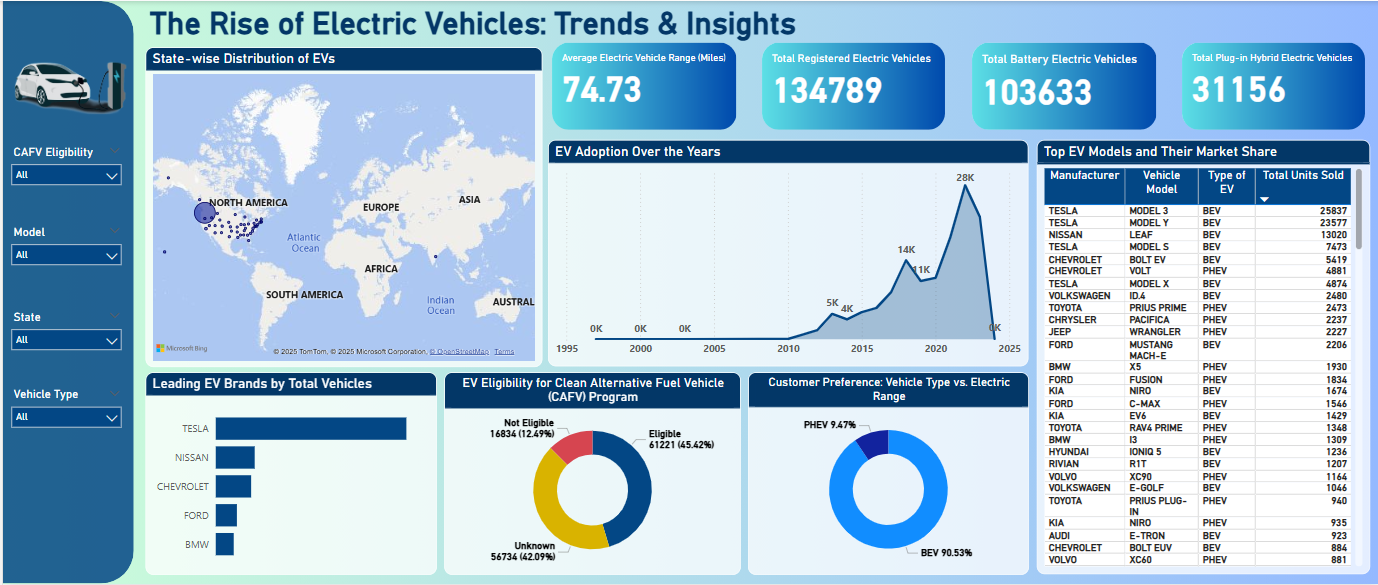

What the dashboard file says about the page in this screenshot:
{"tool":"powerbi","page":{"name":"Dashboard","canvas":[1700,720],"ordinal":0},"visuals":[{"type":"shape","box":[0,0,161.7,720],"z":0},{"type":"slicer","fields":{"Values":["Electric_Vehicle_Population_Data.EV_Type_Short"]},"box":[0.1,473.3,156.7,75],"z":1000},{"type":"slicer","fields":{"Values":["Electric_Vehicle_Population_Data.CAFV Eligibility"]},"box":[0.1,173.3,156.7,75],"z":2000},{"type":"slicer","fields":{"Values":["Electric_Vehicle_Population_Data.State"]},"box":[0.1,376.7,156.7,75],"z":3000},{"type":"slicer","fields":{"Values":["Electric_Vehicle_Population_Data.Model"]},"box":[0.1,271.7,156.7,81.7],"z":4000},{"type":"cardVisual","fields":{"Data":["Avg(Electric_Vehicle_Population_Data.Electric Range)"]},"box":[673.3,46.7,238.3,118.3],"z":5000},{"type":"cardVisual","fields":{"Data":["Count(Electric_Vehicle_Population_Data.DOL Vehicle ID)"]},"box":[933.3,46.7,236.7,118.3],"z":6000},{"type":"cardVisual","fields":{"Data":["Electric_Vehicle_Population_Data.BEV_Count"]},"box":[1191.7,46.7,238.3,118.3],"z":7000},{"type":"cardVisual","fields":{"Data":["Electric_Vehicle_Population_Data.PHEV_Count"]},"box":[1451.7,46.7,236.7,118.3],"z":8000},{"type":"areaChart","title":"EV Adoption Over the Years","fields":{"Category":["Electric_Vehicle_Population_Data.Model Year"],"Y":["CountNonNull(Electric_Vehicle_Population_Data.DOL Vehicle ID)"]},"box":[673.3,171.7,593.3,280],"z":9000},{"type":"map","title":"State-wise Distribution of EVs","fields":{"Category":["Electric_Vehicle_Population_Data.State"],"Size":["Count(Electric_Vehicle_Population_Data.DOL Vehicle ID)"]},"box":[176.7,56.7,490,395],"z":10000},{"type":"clusteredBarChart","title":"Leading EV Brands by Total Vehicles","fields":{"Y":["Sum(Electric_Vehicle_Population_Data.DOL Vehicle ID)"],"Category":["Electric_Vehicle_Population_Data.Make"]},"box":[176.7,458.3,360,250],"z":11000},{"type":"donutChart","title":"EV Eligibility for Clean Alternative Fuel Vehicle (CAFV) Program","fields":{"Category":["Electric_Vehicle_Population_Data.CAFV Eligibility"],"Y":["Count(Electric_Vehicle_Population_Data.DOL Vehicle ID)"]},"box":[545,458.3,366.7,250],"z":12000},{"type":"tableEx","title":"Top EV Models and Their Market Share","fields":{"Values":["Electric_Vehicle_Population_Data.Make","Electric_Vehicle_Population_Data.Model","Electric_Vehicle_Population_Data.EV_Type_Short","Count(Electric_Vehicle_Population_Data.DOL Vehicle ID)"]},"box":[1276.7,171.7,411.7,536.7],"z":13000},{"type":"image","box":[8.3,28.3,153.3,156.7],"z":14000},{"type":"textbox","box":[176.7,0,1190,58.3],"z":15000},{"type":"donutChart","title":"Customer Preference: Vehicle Type vs. Electric Range","fields":{"Category":["Electric_Vehicle_Population_Data.EV_Type_Short"],"Y":["Sum(Electric_Vehicle_Population_Data.Electric Range)"]},"box":[920,458.2,347.3,250],"z":16000}]}

Visuals, with their boxes in screenshot pixels (x1, y1, x2, y2), scaled from the page's 1700x720 canvas onto the 1378x585 screenshot:
shape: [left=0, top=0, right=131, bottom=584]
slicer - Electric_Vehicle_Population_Data.EV_Type_Short: [left=0, top=385, right=127, bottom=445]
slicer - Electric_Vehicle_Population_Data.CAFV Eligibility: [left=0, top=141, right=127, bottom=202]
slicer - Electric_Vehicle_Population_Data.State: [left=0, top=306, right=127, bottom=367]
slicer - Electric_Vehicle_Population_Data.Model: [left=0, top=221, right=127, bottom=287]
cardVisual - Avg(Electric_Vehicle_Population_Data.Electric Range): [left=546, top=38, right=739, bottom=134]
cardVisual - Count(Electric_Vehicle_Population_Data.DOL Vehicle ID): [left=757, top=38, right=948, bottom=134]
cardVisual - Electric_Vehicle_Population_Data.BEV_Count: [left=966, top=38, right=1159, bottom=134]
cardVisual - Electric_Vehicle_Population_Data.PHEV_Count: [left=1177, top=38, right=1369, bottom=134]
"EV Adoption Over the Years" areaChart: [left=546, top=140, right=1027, bottom=367]
"State-wise Distribution of EVs" map: [left=143, top=46, right=540, bottom=367]
"Leading EV Brands by Total Vehicles" clusteredBarChart: [left=143, top=372, right=435, bottom=575]
"EV Eligibility for Clean Alternative Fuel Vehicle (CAFV) Program" donutChart: [left=442, top=372, right=739, bottom=575]
"Top EV Models and Their Market Share" tableEx: [left=1035, top=140, right=1369, bottom=576]
image: [left=7, top=23, right=131, bottom=150]
textbox: [left=143, top=0, right=1108, bottom=47]
"Customer Preference: Vehicle Type vs. Electric Range" donutChart: [left=746, top=372, right=1027, bottom=575]
